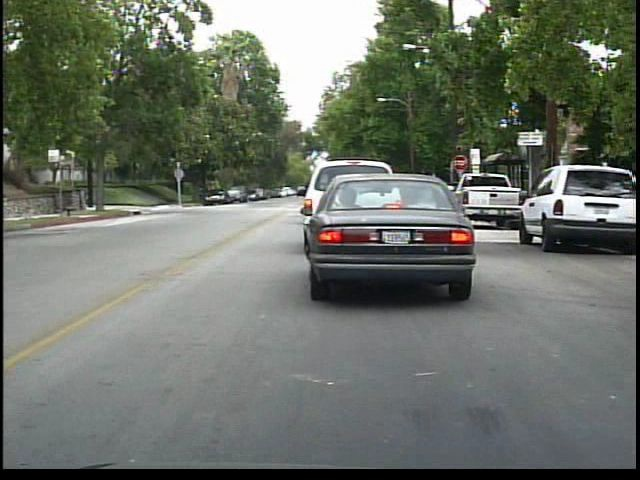person: (197, 182, 206, 205)
